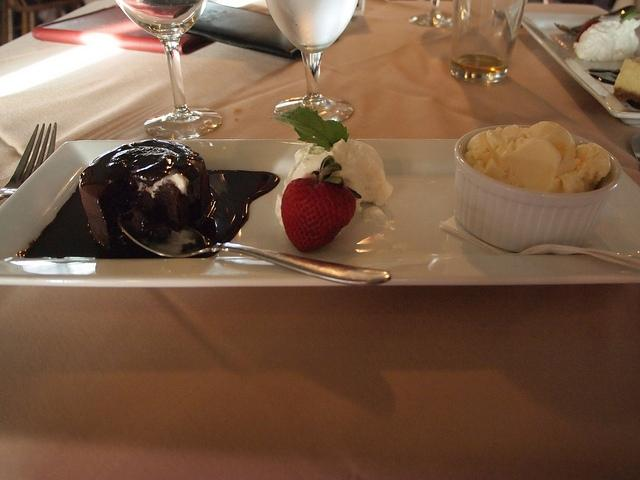strawberry: (282, 155, 356, 252)
